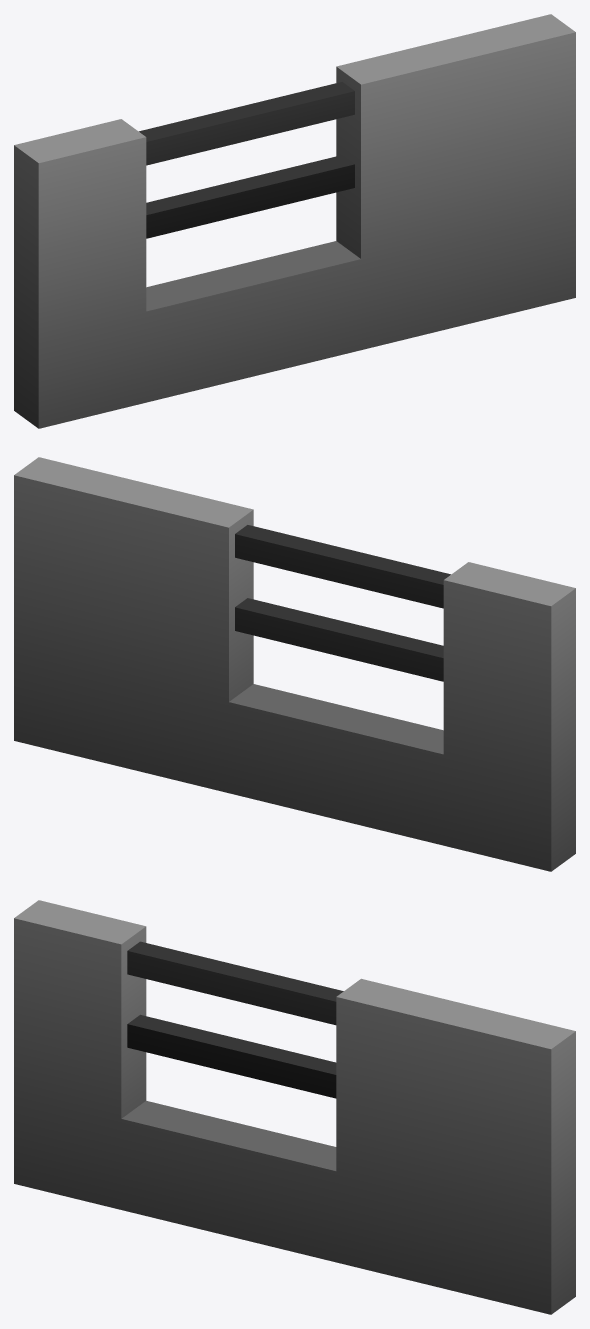
The model's file is PagerK3.fbx.
3 views of the same model, one above another, from view 1: azimuth 30°, elevation 25°; view 2: azimuth 150°, elevation 25°; view 3: azimuth 330°, elevation 25° (orthographic).
Parts seen in each view (by area): view 1: PagerK3_LOD0; view 2: PagerK3_LOD0; view 3: PagerK3_LOD0.
Boxes of the visible parts, box(x1,y1,x2,y2) form: PagerK3_LOD0: box(14, 14, 575, 428); PagerK3_LOD0: box(14, 457, 575, 871); PagerK3_LOD0: box(14, 900, 575, 1314).
Size of what is drawn, in the model's own units: 304 by 143 by 24.28.
